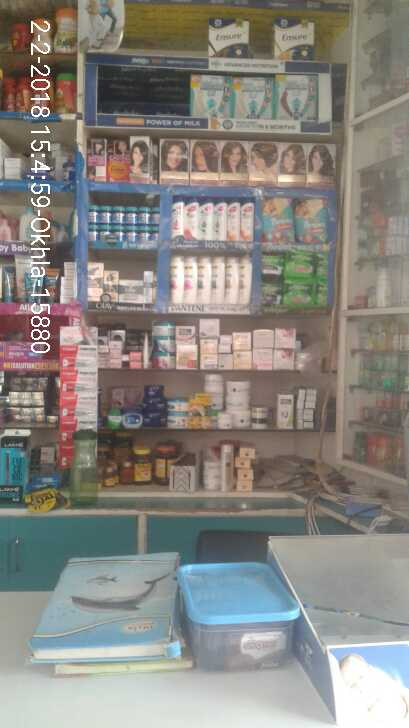vicks: (84, 204, 162, 245)
